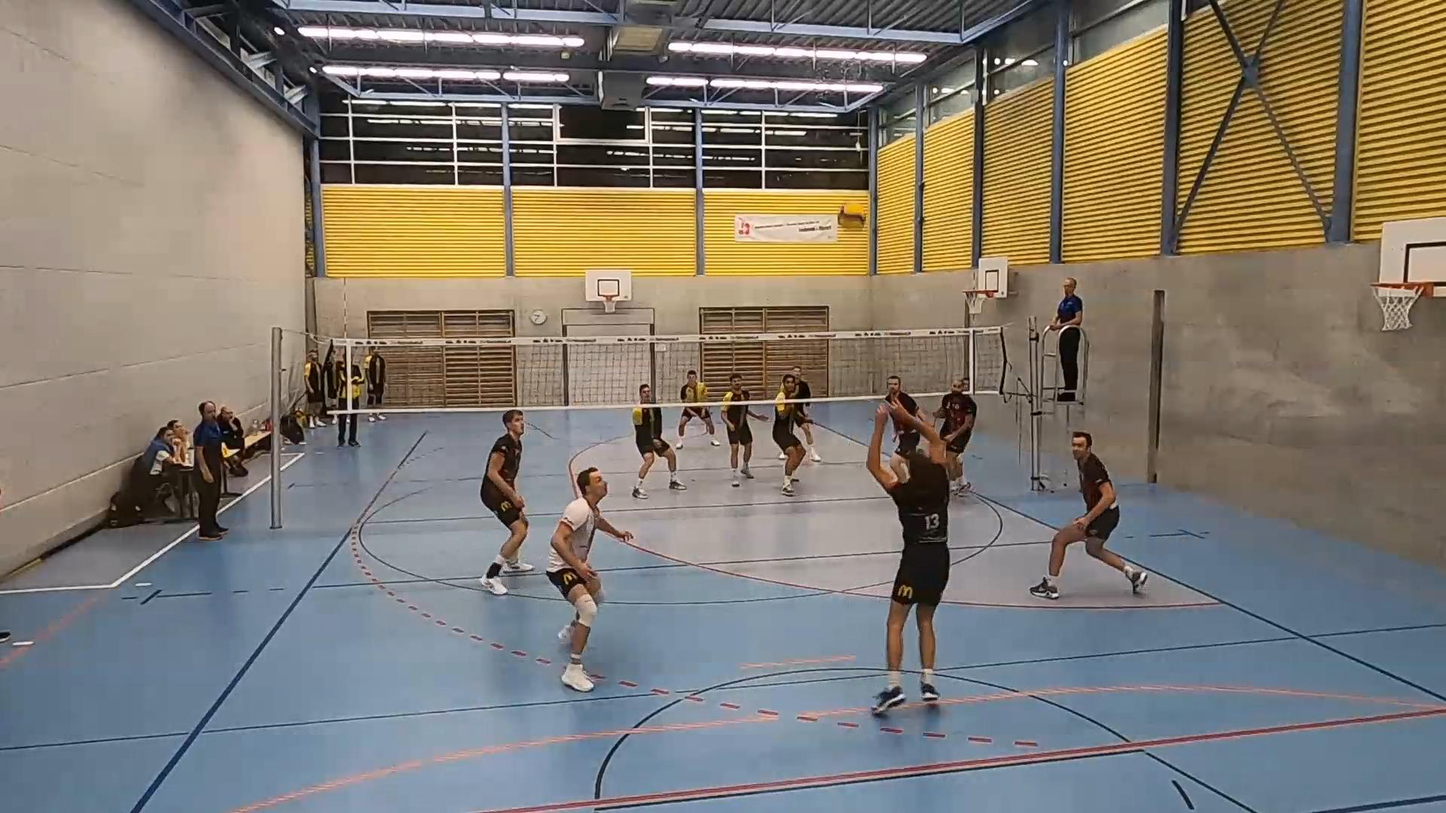difesa: (861, 401, 953, 727)
